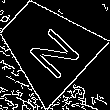N_NW: (15, 14, 78, 78)
